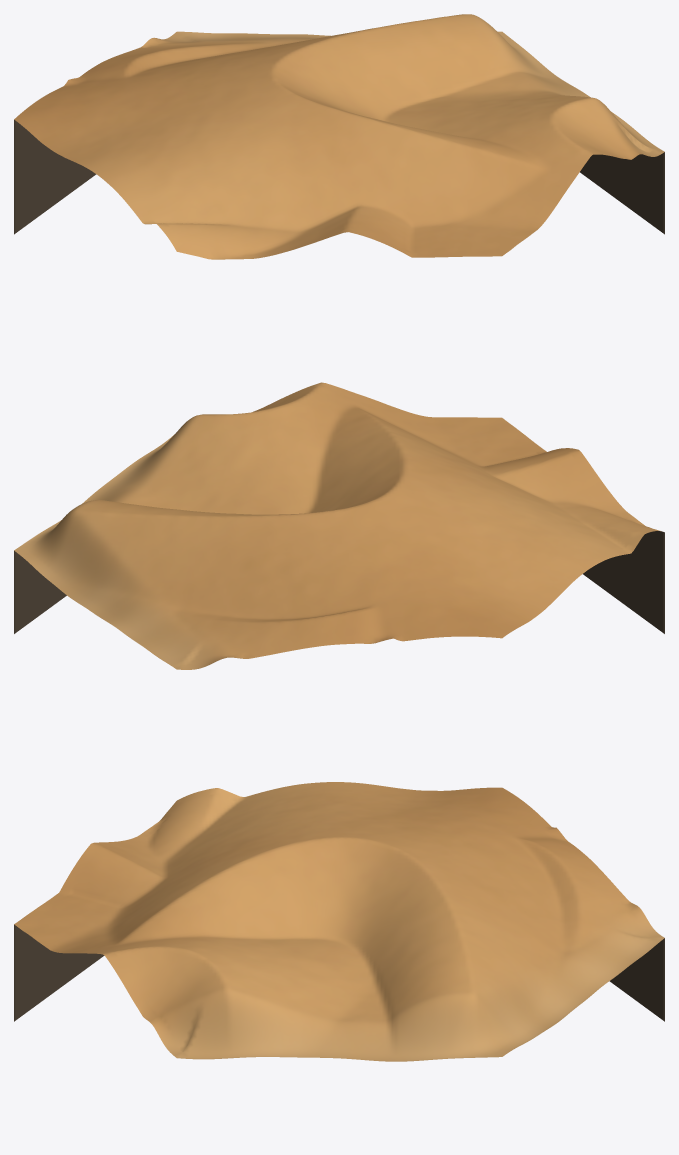
The picture shows the model from 3 angles, top to bottom: view 1: azimuth 30°, elevation 25°; view 2: azimuth 150°, elevation 25°; view 3: azimuth 270°, elevation 25°; orthographic projection.
Parts seen in each view (by area): view 1: terrain, hex_side_cut; view 2: terrain, hex_side_cut; view 3: terrain, hex_side_cut.
Boxes of the visible parts, bbox=[...] form: terrain: bbox=[14, 14, 664, 259]; hex_side_cut: bbox=[14, 120, 664, 234]; terrain: bbox=[14, 382, 660, 669]; hex_side_cut: bbox=[14, 531, 664, 633]; terrain: bbox=[14, 782, 664, 1061]; hex_side_cut: bbox=[14, 924, 664, 1021].
Size of the model in its own units: 4330 by 1338 by 5000.
